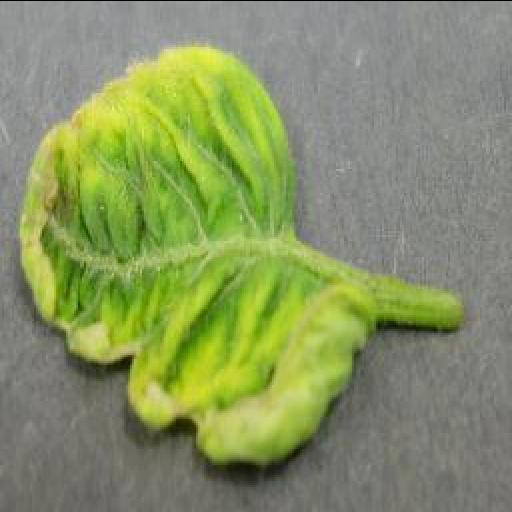disease_tomato: (20, 45, 380, 469)
